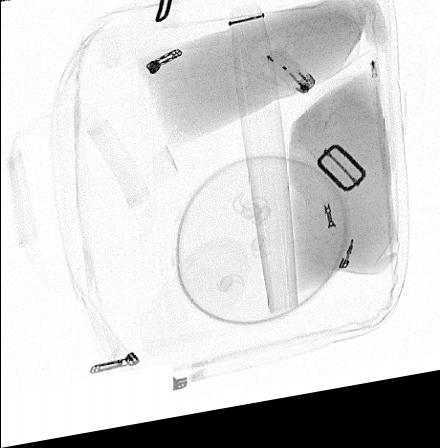Lighter: (261, 57, 314, 105)
